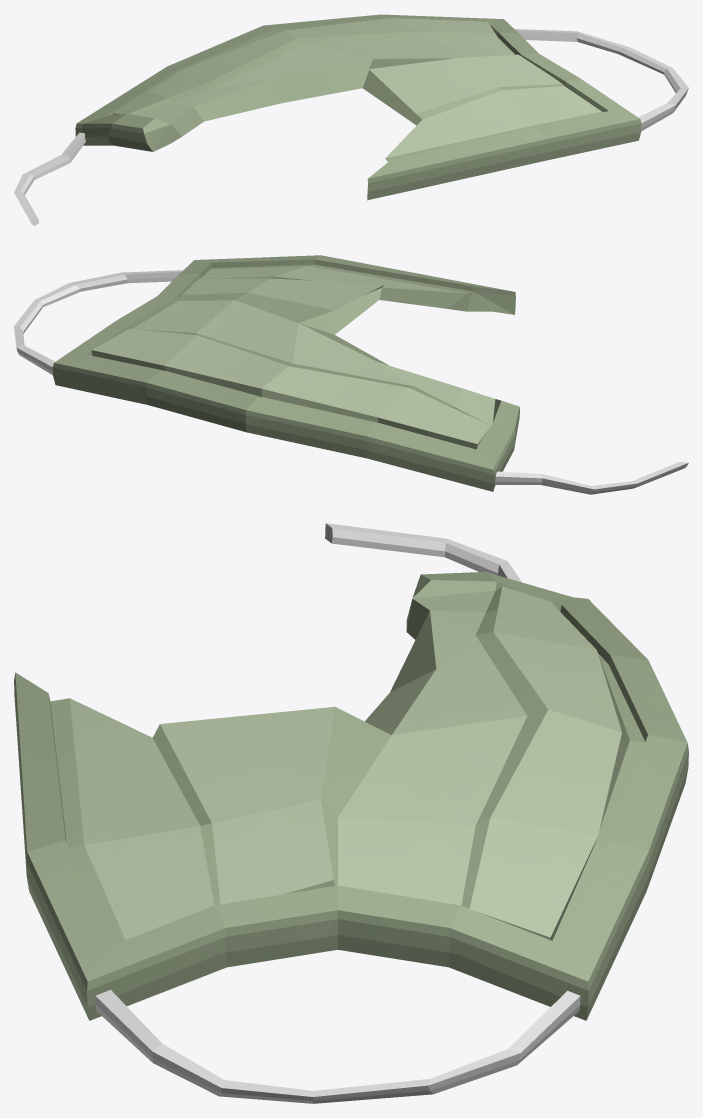
The model's file is face_mask_3.glb.
3 views of the same model, one above another, from view 1: azimuth 30°, elevation 25°; view 2: azimuth 150°, elevation 25°; view 3: azimuth 270°, elevation 25° (orthographic). The views are drawn at different scales.
Parts seen in each view (by area): view 1: face_mask_3; view 2: face_mask_3; view 3: face_mask_3.
Boxes of the visible parts, x1=… form: face_mask_3: x1=14, y1=14, x2=688, y2=226; face_mask_3: x1=14, y1=255, x2=688, y2=494; face_mask_3: x1=14, y1=523, x2=688, y2=1103.
Bounding box in the file's own units: 0.2262 × 0.0247 × 0.1126.
Materials: 1 (1 with a texture image).
